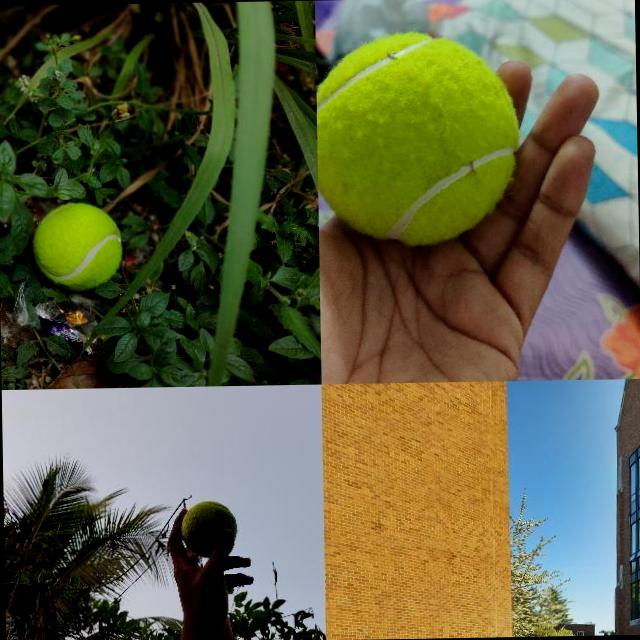tennis-ball: (315, 27, 522, 250), (32, 201, 122, 290), (180, 498, 238, 558)
